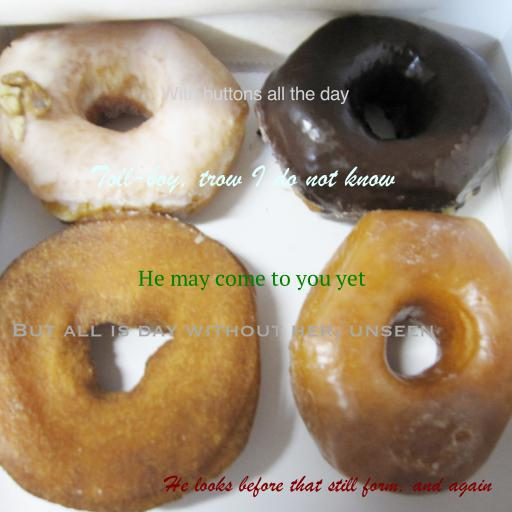Big Caslon: (161, 86, 349, 105)
Brush Script MT: (89, 165, 395, 194), (164, 475, 492, 498)
Copperplate: (11, 323, 435, 340)
PT Serif: (138, 270, 366, 291)
